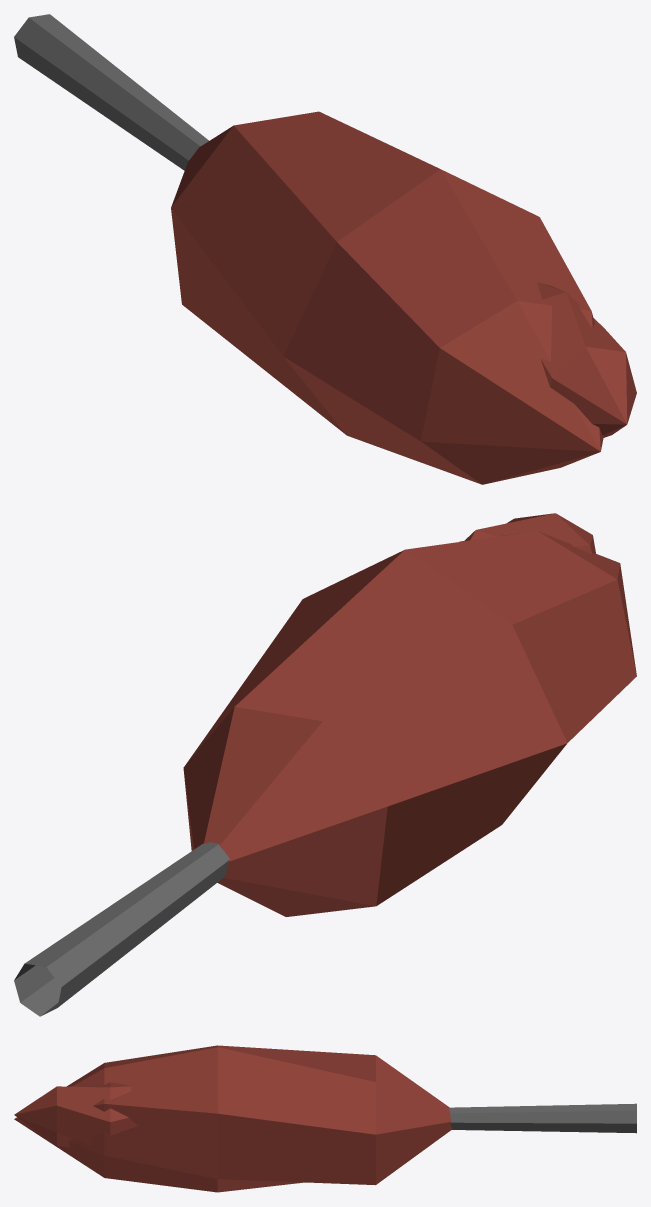
Rendered from growth_0.glb.
3 views of the same model, one above another, from view 1: azimuth 30°, elevation 25°; view 2: azimuth 150°, elevation 25°; view 3: azimuth 270°, elevation 25° (orthographic). The views are drawn at different scales.
Parts seen in each view (by area): view 1: tree_01_growth_0; view 2: tree_01_growth_0; view 3: tree_01_growth_0.
Part boxes in pixels (left/top/right/bottom): tree_01_growth_0: left=14, top=14, right=636, bottom=484; tree_01_growth_0: left=14, top=513, right=636, bottom=1016; tree_01_growth_0: left=14, top=1045, right=636, bottom=1192.
Size of the model in its own units: 4.46 by 4.31 by 16.98.
